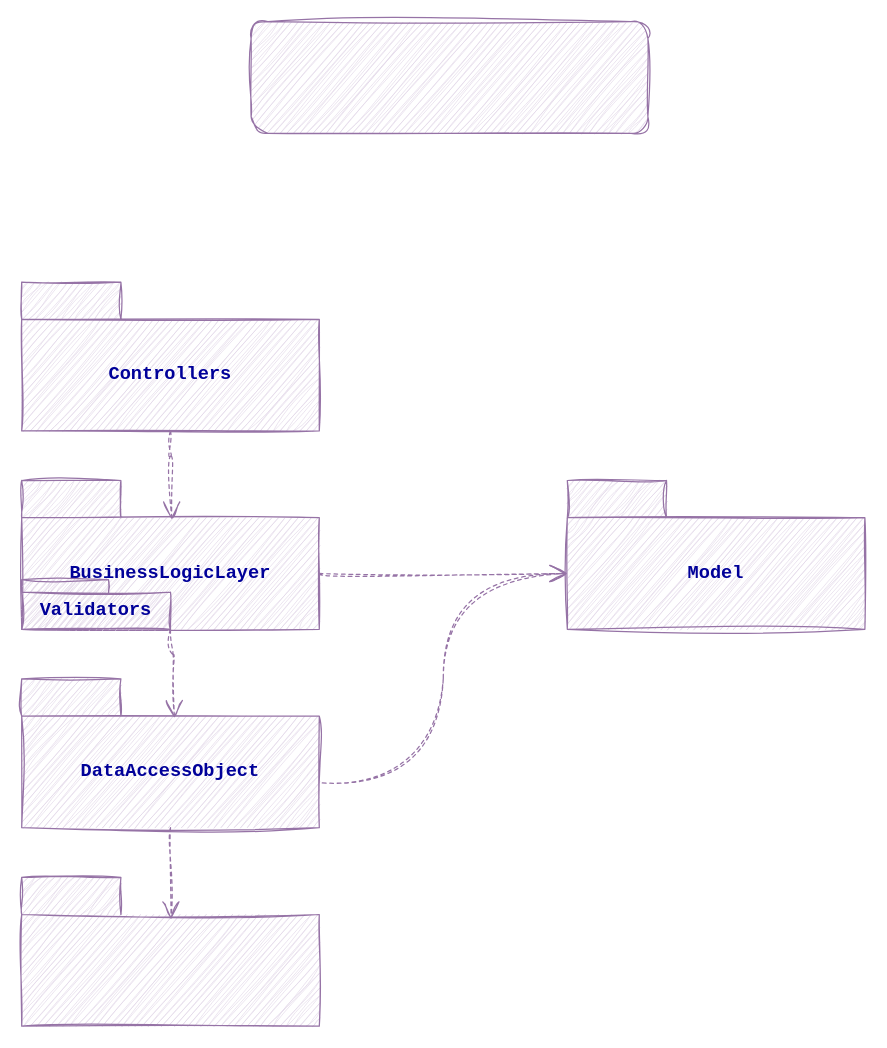
The diagram is 887 pixels wide and 1048 high, and some of its shapes have lost their labels. The centre of each missing label's shape, as x and y in pixels:
"Connection" belongs at point (169, 951).
"Package Diagram" belongs at point (449, 76).
